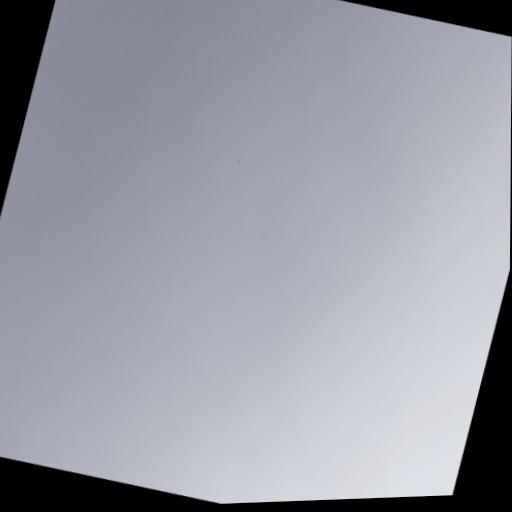drones: (235, 157, 242, 166)
